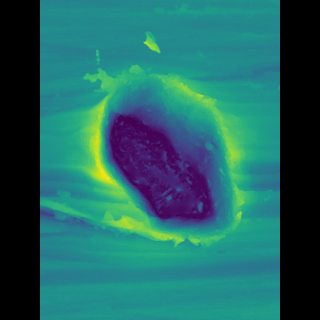Loch: (99, 68, 235, 258)
